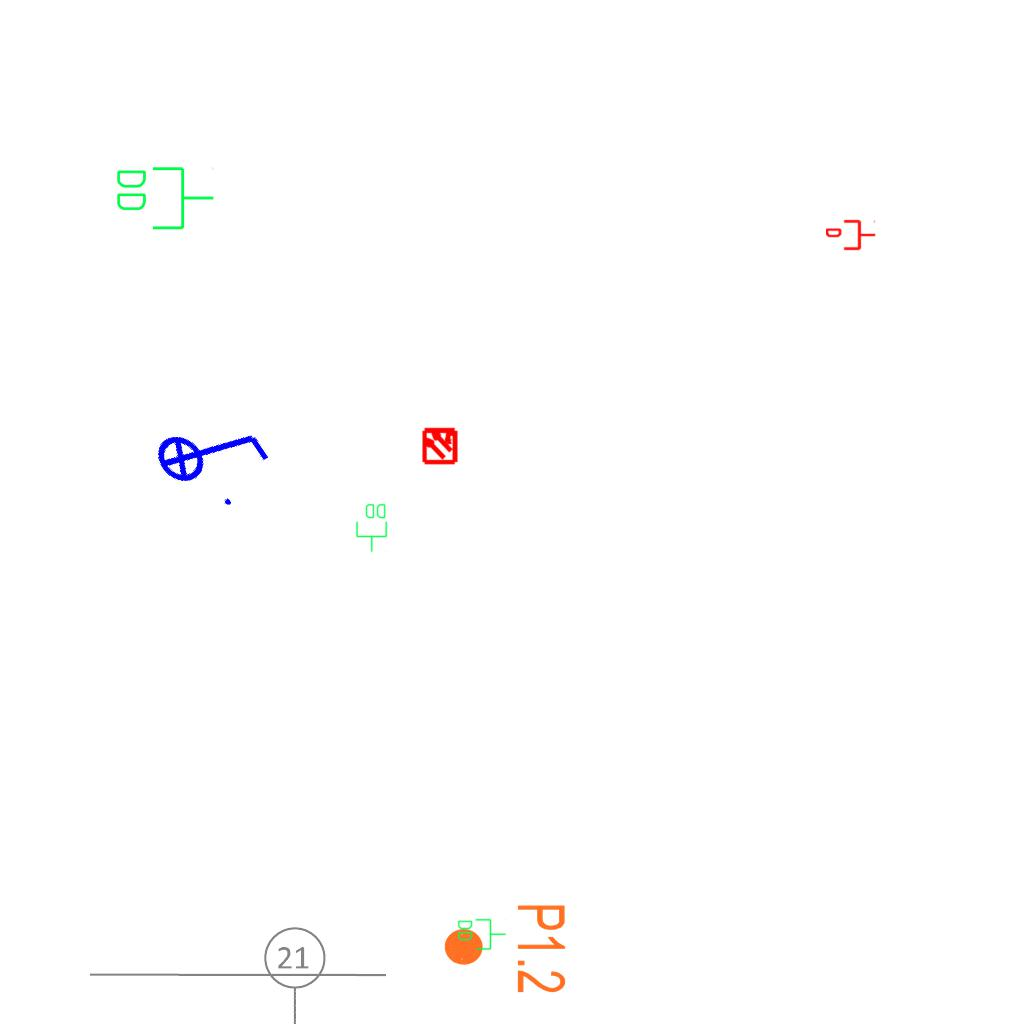Ausschalter_beleuchtet: (137, 377, 285, 525)
Datenanschluss_einfach: (826, 218, 876, 252)
Datenanschluss_zweifach: (113, 163, 216, 232), (355, 502, 389, 553), (456, 917, 507, 951)
Downlight_LED_Einbauleuchten_Flur: (441, 902, 569, 995)
OT_Multisensormelder_(Kombination_RMO_WMD): (412, 417, 468, 473)
